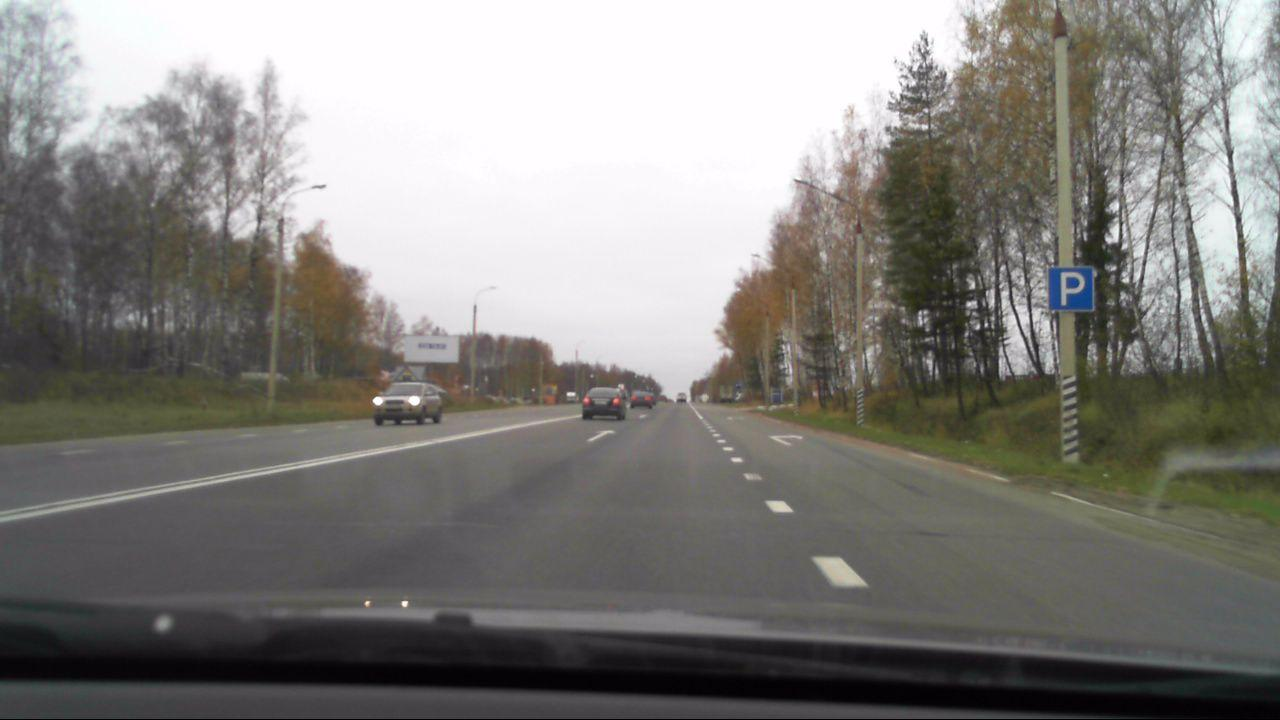6_4: (1047, 266, 1096, 312)
